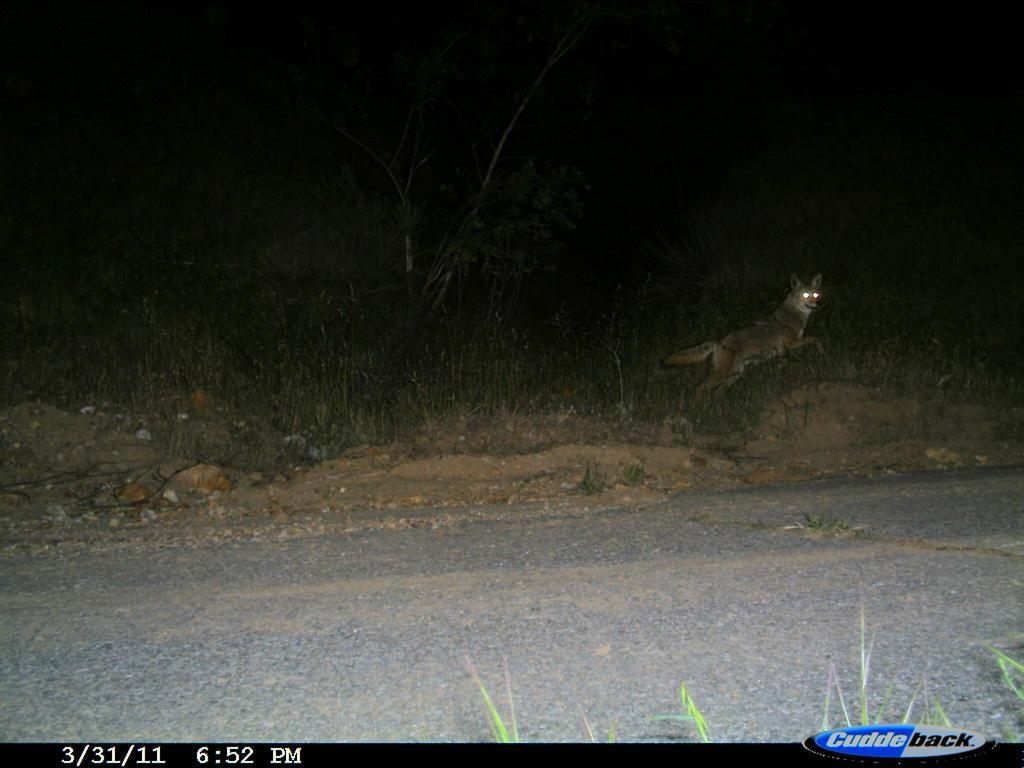coyote: (666, 268, 839, 422)
